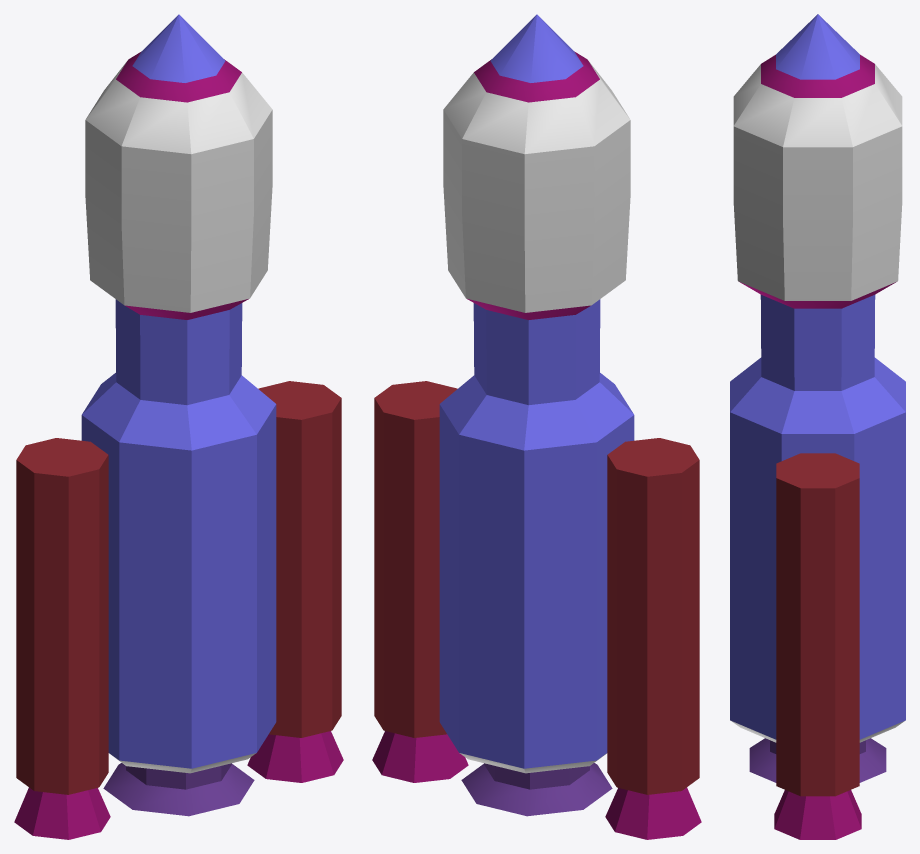
File: Rocket.fbx
3 renders of one model, left to right at view 1: azimuth 30°, elevation 25°; view 2: azimuth 150°, elevation 25°; view 3: azimuth 270°, elevation 25°, orthographic. The views are drawn at different scales.
Visible parts, largest first — view 1: RocketBody, PortBooster, StarboardBooster; view 2: RocketBody, PortBooster, StarboardBooster; view 3: RocketBody, StarboardBooster.
Boxes of the visible parts, <box> form: RocketBody: <box>81,14,276,816</box>; PortBooster: <box>14,438,110,839</box>; StarboardBooster: <box>247,381,343,782</box>; RocketBody: <box>439,14,634,816</box>; PortBooster: <box>605,438,701,839</box>; StarboardBooster: <box>372,381,468,782</box>; RocketBody: <box>730,14,905,782</box>; StarboardBooster: <box>774,453,861,839</box>.
Size of the model in its own units: 1.84 by 4.4 by 0.9303.
